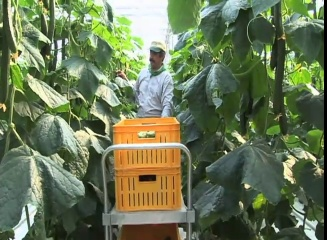person: (134, 39, 174, 116)
